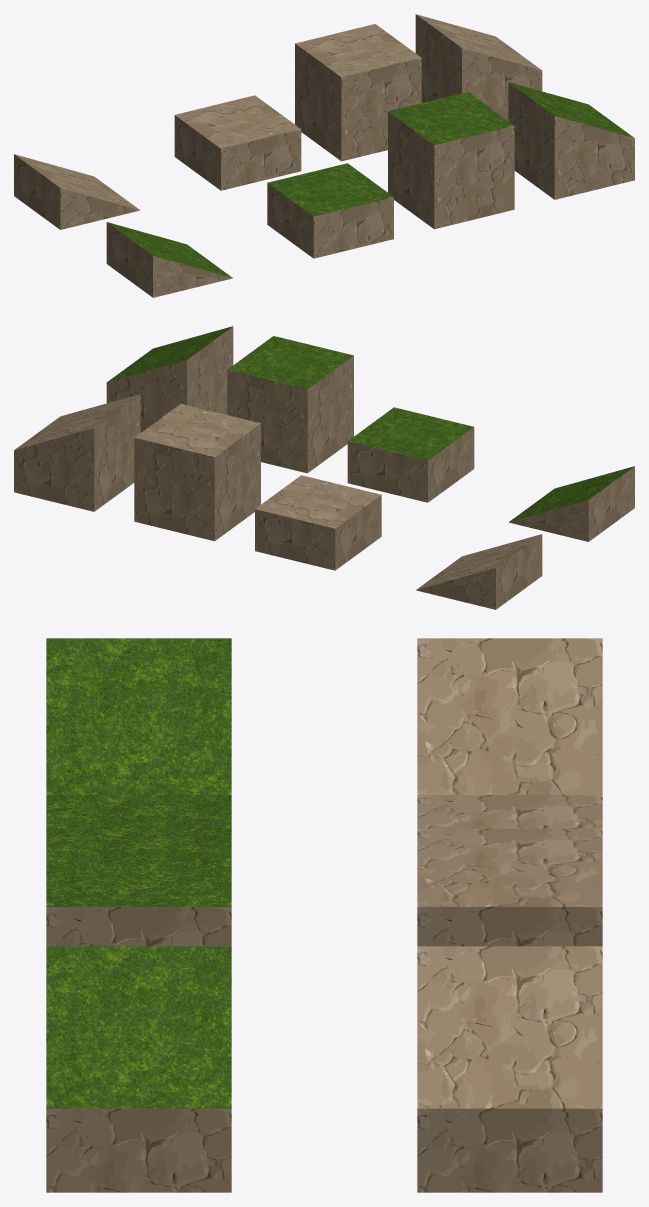
File: TilesGrassNdirt.glb
3 renders of one model, top to bottom at view 1: azimuth 30°, elevation 25°; view 2: azimuth 150°, elevation 25°; view 3: azimuth 270°, elevation 25°, orthographic. The views are drawn at different scales.
Visible parts, largest first — view 1: Cube-col, Cube.004-col, Cube.001-col, Cube.006-col, Cube.002-col, Cube.005-col, Cube.003-col, Cube.007-col; view 2: Cube.004-col, Cube-col, Cube.005-col, Cube.002-col, Cube.006-col, Cube.001-col, Cube.007-col, Cube.003-col; view 3: Cube.001-col, Cube.005-col, Cube.003-col, Cube.007-col, Cube-col, Cube.004-col, Cube.002-col, Cube.006-col.
Boxes of the visible parts, bbox=[...] form: Cube-col: bbox=[388, 92, 514, 229]; Cube.004-col: bbox=[295, 24, 421, 161]; Cube.001-col: bbox=[508, 82, 634, 199]; Cube.006-col: bbox=[174, 95, 301, 190]; Cube.002-col: bbox=[267, 163, 393, 258]; Cube.005-col: bbox=[415, 14, 542, 120]; Cube.003-col: bbox=[106, 222, 232, 297]; Cube.007-col: bbox=[14, 154, 140, 229]; Cube.004-col: bbox=[134, 404, 260, 541]; Cube-col: bbox=[227, 336, 353, 473]; Cube.005-col: bbox=[14, 394, 140, 511]; Cube.002-col: bbox=[347, 407, 474, 502]; Cube.006-col: bbox=[255, 475, 381, 570]; Cube.001-col: bbox=[106, 326, 233, 432]; Cube.007-col: bbox=[416, 534, 542, 609]; Cube.003-col: bbox=[508, 466, 634, 541]; Cube.001-col: bbox=[46, 946, 231, 1192]; Cube.005-col: bbox=[417, 946, 602, 1192]; Cube.003-col: bbox=[46, 638, 231, 794]; Cube.007-col: bbox=[417, 638, 602, 794]; Cube-col: bbox=[46, 828, 231, 946]; Cube.004-col: bbox=[417, 828, 602, 946]; Cube.002-col: bbox=[46, 795, 231, 828]; Cube.006-col: bbox=[417, 795, 602, 828].
Size of the model in its own units: 12 by 2 by 6.
2 materials, 2 textured.
